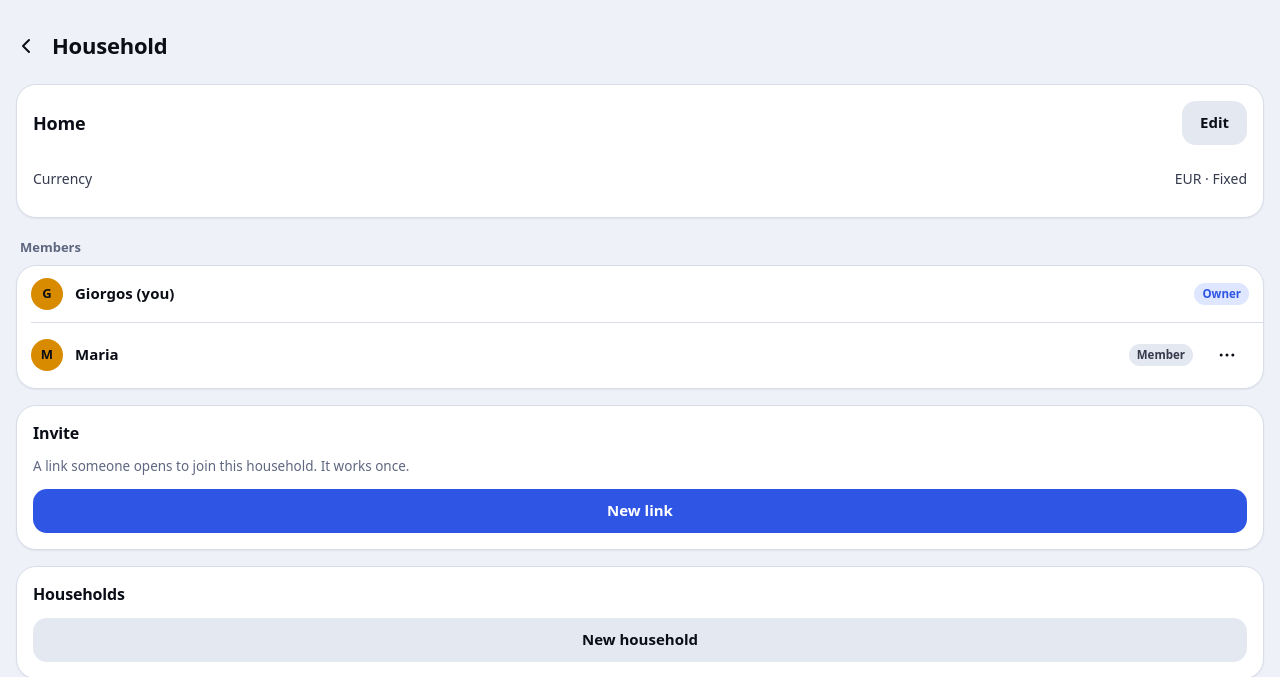
Test: Household › owner: a new invite link is shown once
The image size is (1280, 677).
Click the button "New link". click: (640, 511)
box: [33,489,1247,533]
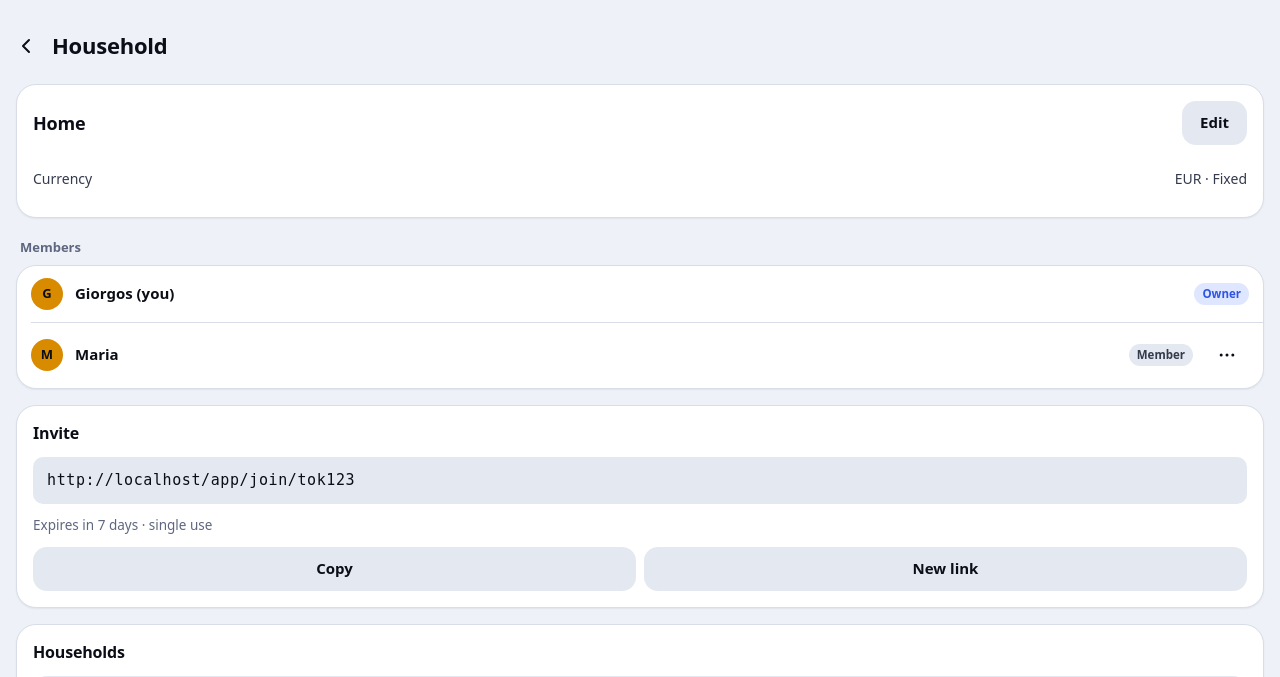
Result: the text "Expires in 7 days · single use" is shown at [33,516,212,534]
